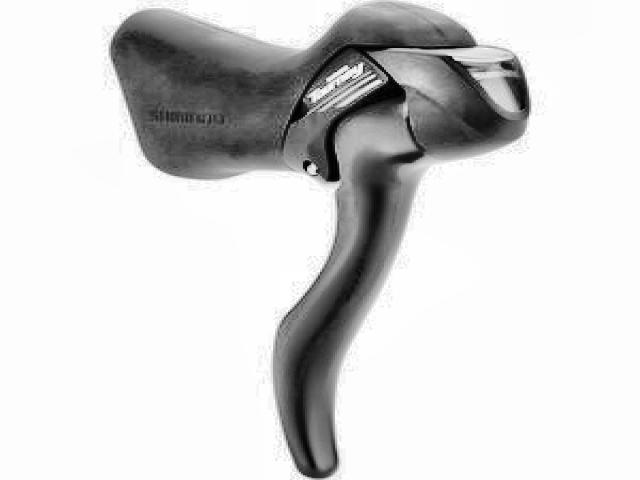sti_shifter: (117, 1, 541, 477)
